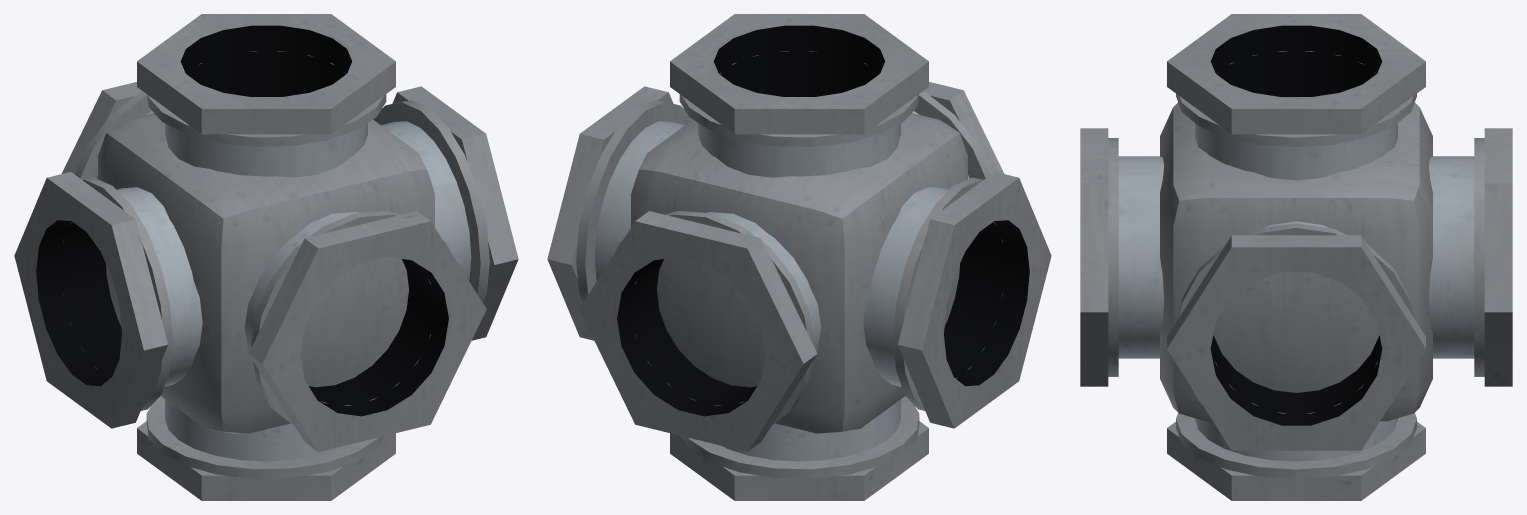
File: small_pipe_six_way.glb
3 renders of one model, left to right at view 1: azimuth 30°, elevation 25°; view 2: azimuth 150°, elevation 25°; view 3: azimuth 270°, elevation 25°, orthographic.
Visible parts, largest first — view 1: Body.008; view 2: Body.008; view 3: Body.008.
Part boxes in pixels (x1=…): Body.008: x1=14, y1=14, x2=518, y2=500; Body.008: x1=547, y1=14, x2=1051, y2=500; Body.008: x1=1080, y1=14, x2=1512, y2=500.
Bounding box in the file's own units: 0.247 × 0.247 × 0.247.
3 materials, 2 textured.
